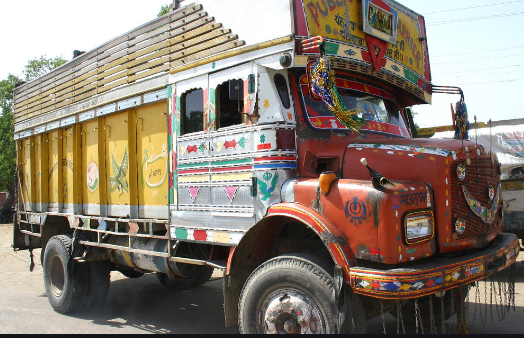truck: (12, 1, 518, 331)
